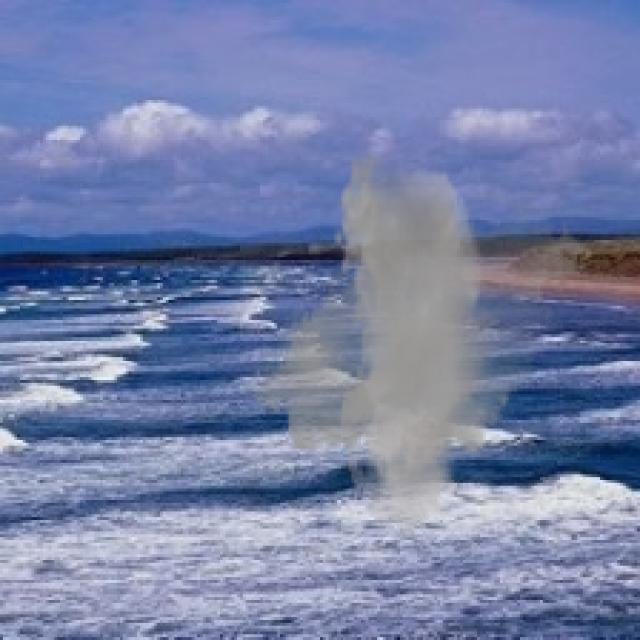Smoke: (242, 152, 594, 532)
